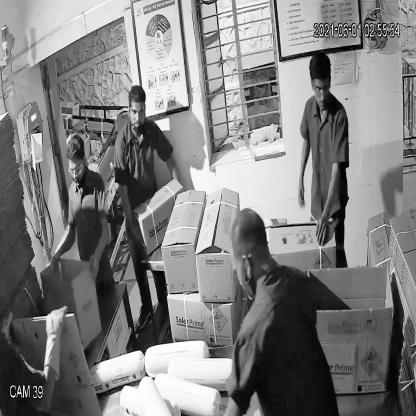goggles: (64, 156, 90, 182)
